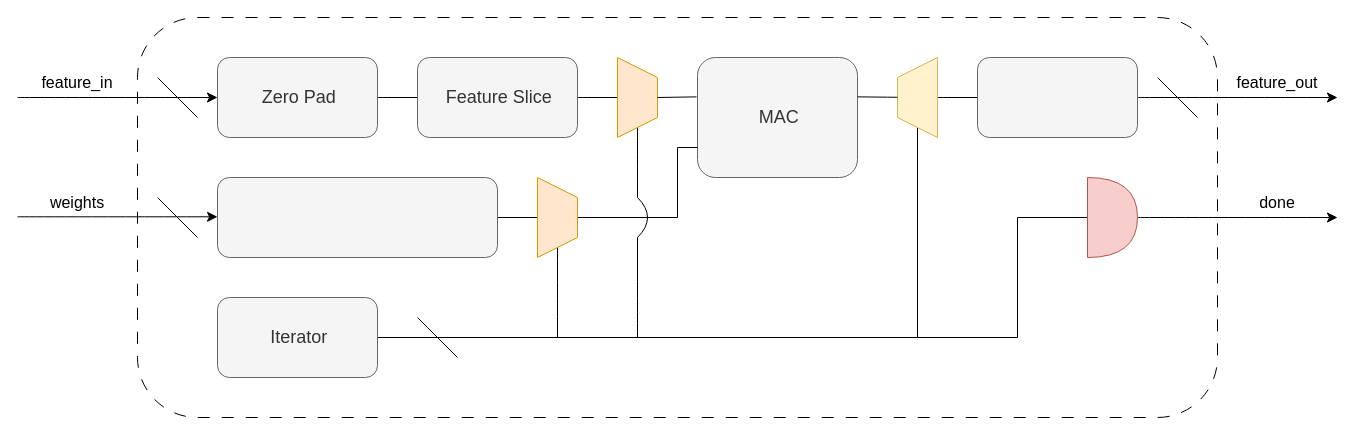
Image size: 1355x435. Some labels were removed from this diagram. The box of each missing label's shape, as (x1, y1, x2, y2) in pixels:
Kernel Slice: (216, 176, 498, 258)
Register: (976, 56, 1138, 138)
